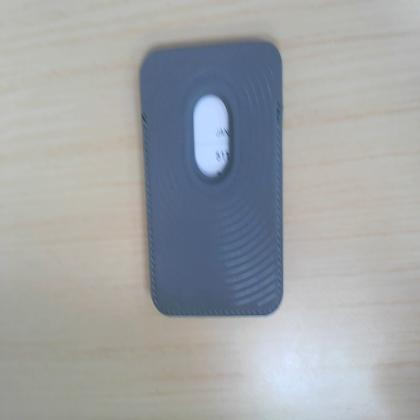pics: (140, 40, 283, 315)
